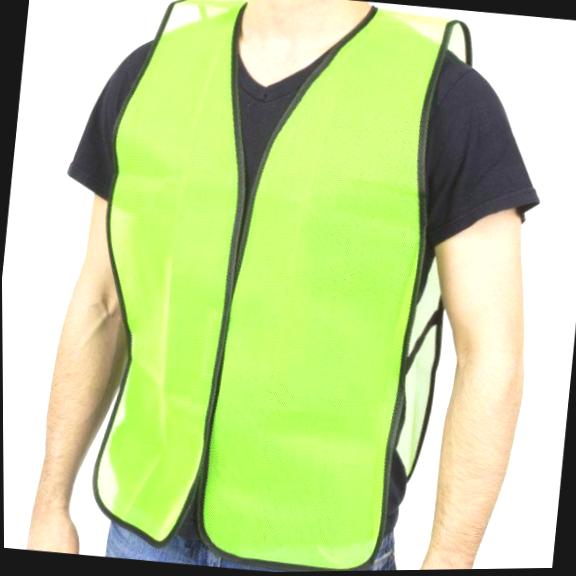safety_vest: (64, 0, 483, 575)
